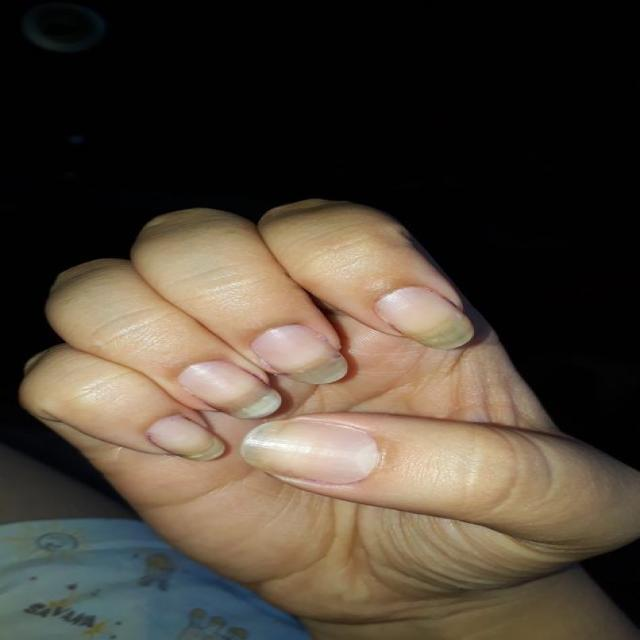Fingernail: (241, 420, 377, 484), (375, 286, 474, 350), (177, 360, 281, 419), (251, 325, 347, 385), (149, 415, 225, 462)
